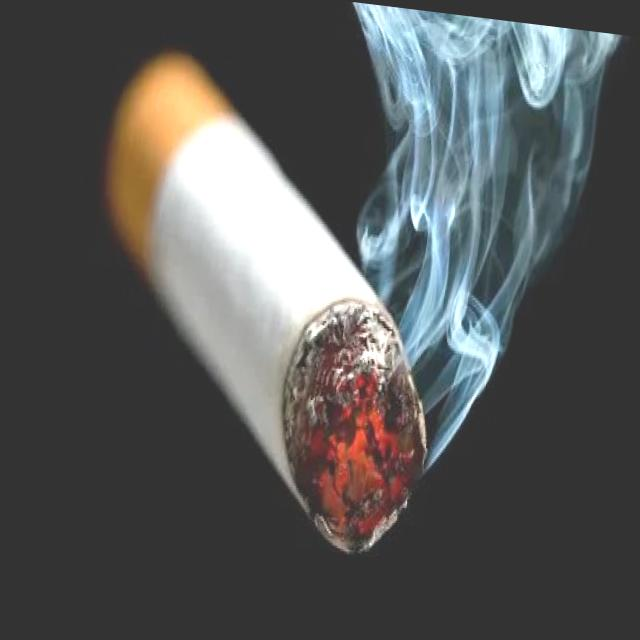smoke: (59, 30, 486, 592)
